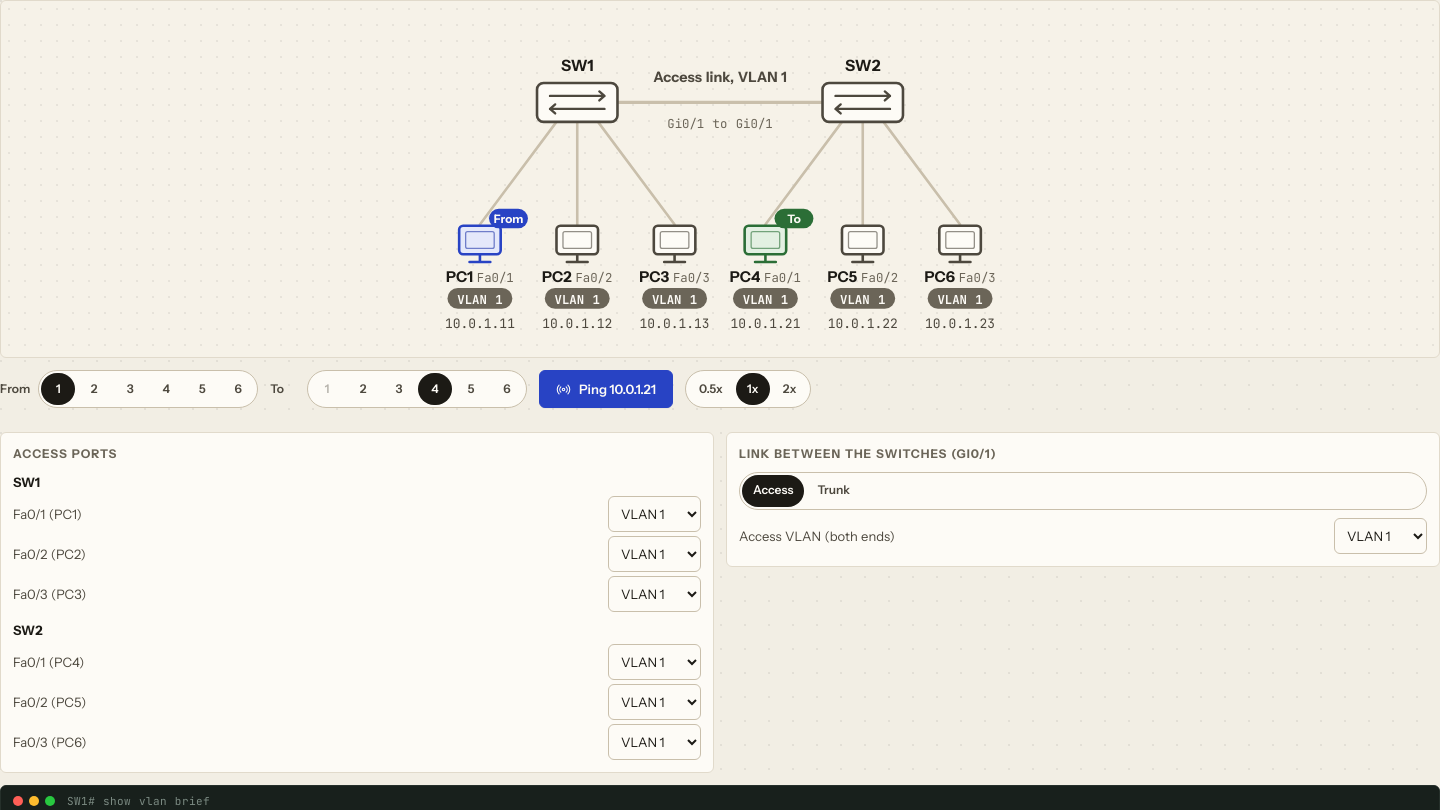
Test: network widgets render › vlan-trunk: pings and explains a failure
The image size is (1440, 810).
Select "VLAN 10" in the dropdown labelled "Fa0/1 (PC1)" at (654, 514), box [608,496,701,532]
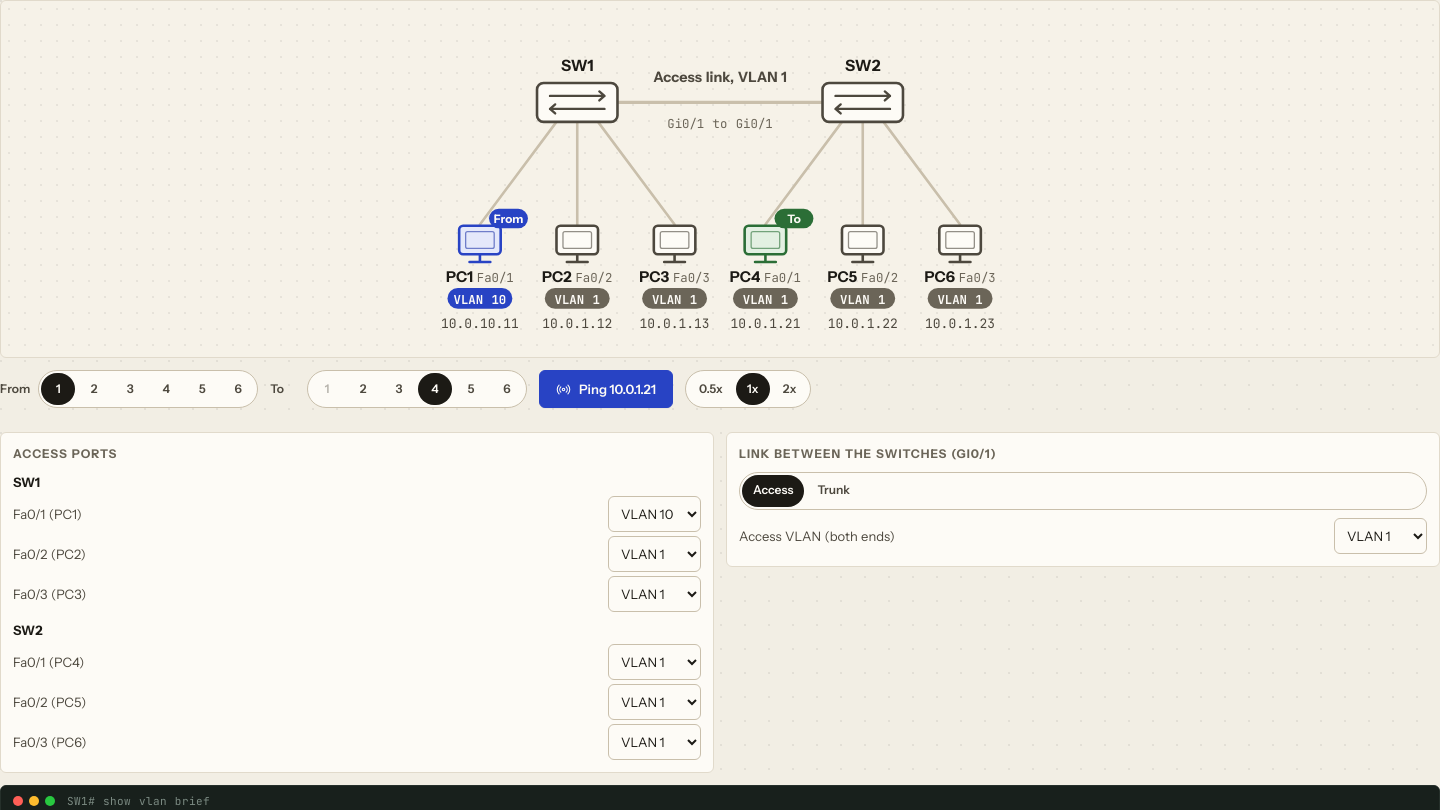
Click the button "Ping 10.0.1.21" at (606, 389), box [539,370,673,408]
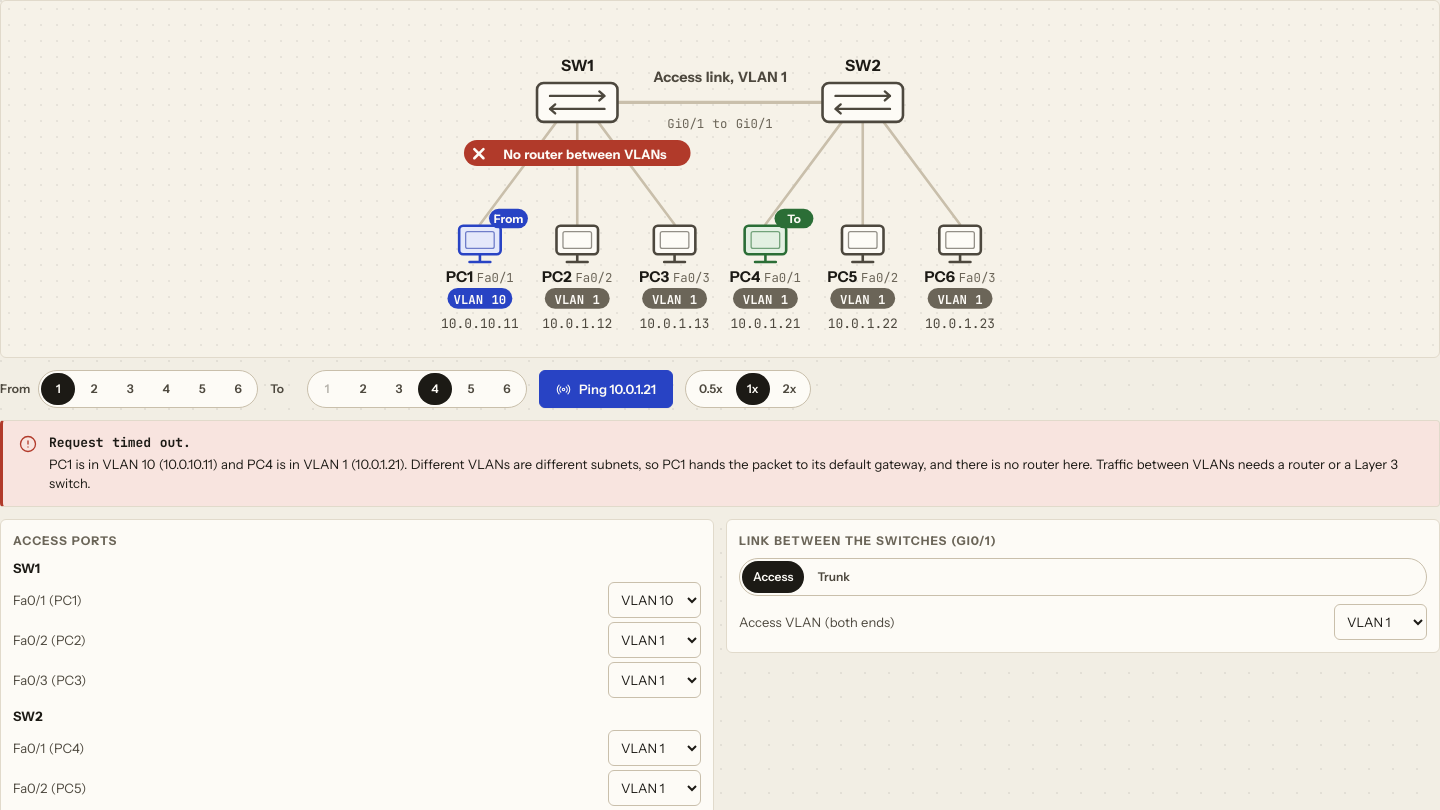
Expected: the element that starts with "Request timed out." is shown, [0,420,1439,506]
